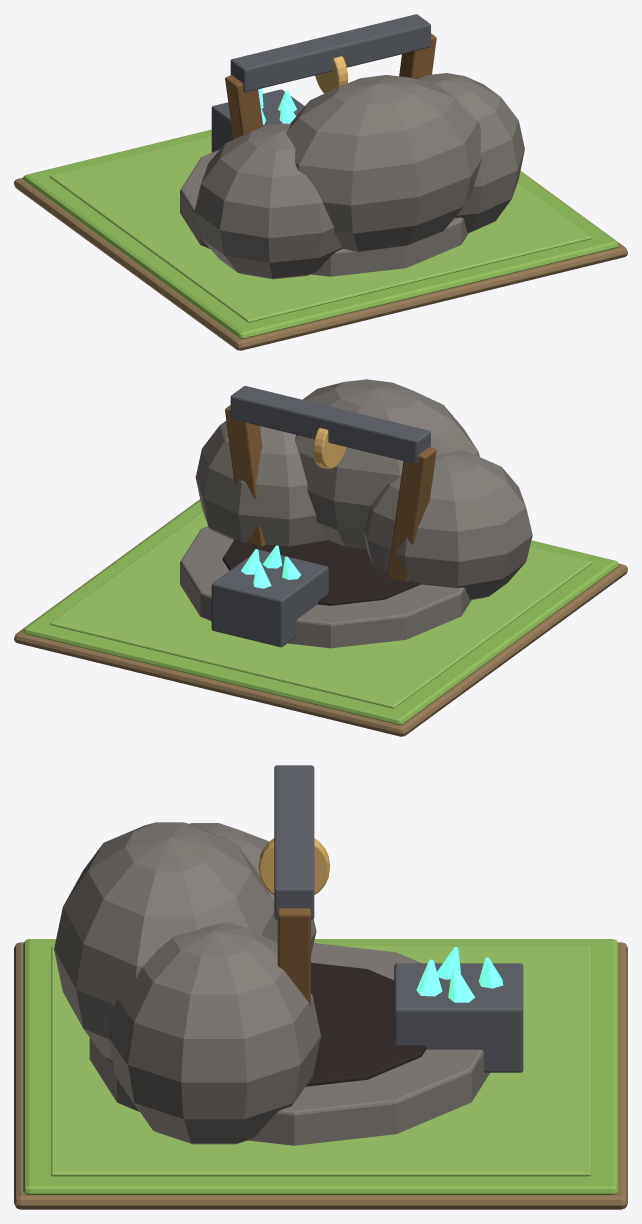
File: gem_mine_lv1.glb
3 views of the same model, one above another, from view 1: azimuth 30°, elevation 25°; view 2: azimuth 150°, elevation 25°; view 3: azimuth 270°, elevation 25° (orthographic). The views are drawn at different scales.
Visible parts, largest first — view 1: GemRock_2, Base_Inner, GemRock_0, Base_Grass, Base_Dirt, GemHoistBeam, GemRock_1, QuarryPitRim, GemCartBody, GemHoistPost_-1, GemHoistPost_1, GemPulley; view 2: Base_Inner, GemRock_0, Base_Grass, GemRock_2, GemRock_1, QuarryPitRim, Base_Dirt, GemCartBody, GemHoistBeam, QuarryPitHole, GemHoistPost_-1, GemHoistPost_1 (+1 smaller); view 3: Base_Inner, GemRock_1, Base_Grass, GemRock_2, QuarryPitRim, Base_Dirt, GemCartBody, QuarryPitHole, GemHoistBeam, GemHoistPost_1, GemPulley, GemRock_0 (+1 smaller).
Part boxes in pixels (box(x1,y1,x2,y2)): GemRock_2: box(286, 75, 481, 251); Base_Inner: box(50, 136, 591, 322); GemRock_0: box(194, 123, 342, 279); Base_Grass: box(23, 129, 618, 338); Base_Dirt: box(14, 171, 627, 350); GemHoistBeam: box(230, 14, 430, 92); GemRock_1: box(418, 73, 524, 233); QuarryPitRim: box(180, 149, 468, 276); GemCartBody: box(211, 89, 304, 152); GemHoistPost_-1: box(225, 75, 263, 139); GemHoistPost_1: box(399, 33, 436, 79); GemPulley: box(315, 56, 348, 93); Base_Inner: box(50, 511, 591, 708); GemRock_0: box(363, 449, 532, 599); Base_Grass: box(23, 499, 618, 724); GemRock_2: box(295, 379, 479, 549); GemRock_1: box(195, 421, 327, 546); QuarryPitRim: box(180, 526, 471, 648); Base_Dirt: box(14, 499, 627, 736); GemCartBody: box(211, 550, 328, 647); GemHoistBeam: box(230, 386, 430, 463); QuarryPitHole: box(222, 539, 420, 605); GemHoistPost_-1: box(387, 447, 436, 581); GemHoistPost_1: box(225, 405, 265, 546); Base_Inner: box(51, 946, 590, 1176); GemRock_1: box(107, 922, 320, 1144); Base_Grass: box(23, 939, 618, 1194); GemRock_2: box(54, 822, 277, 1058); QuarryPitRim: box(89, 943, 489, 1145); Base_Dirt: box(14, 942, 627, 1209); GemCartBody: box(394, 963, 523, 1072); QuarryPitHole: box(306, 962, 426, 1086); GemHoistBeam: box(274, 765, 314, 919); GemHoistPost_1: box(277, 908, 310, 1006); GemPulley: box(258, 838, 329, 894); GemRock_0: box(189, 823, 316, 954).
Bounding box in the file's own units: 2.76 × 1.29 × 2.76.
